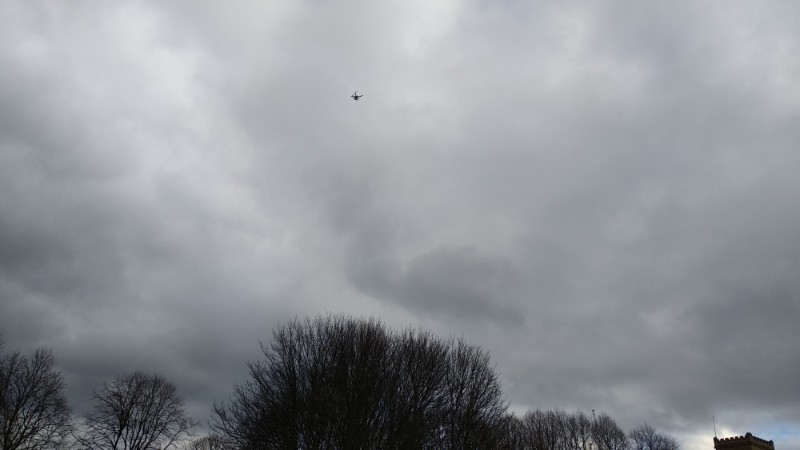drone: (350, 91, 366, 102)
